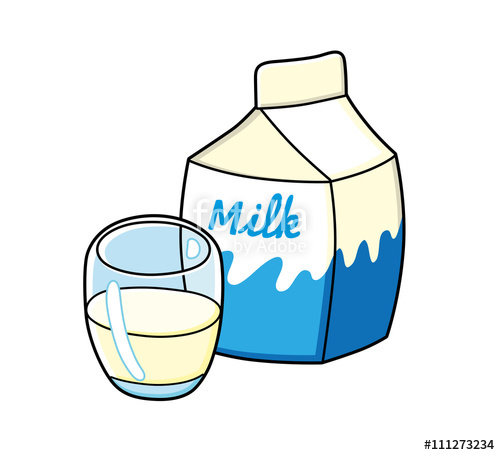glass of milk: (83, 211, 222, 402)
